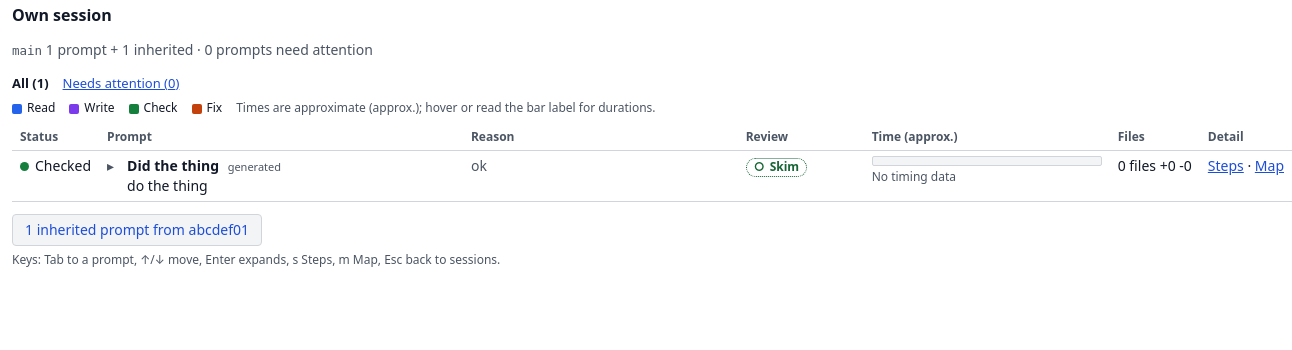
Test case: prompt table titles › an inherited prompt never shows a title
What coordinates should you click on to do the following:
click the button with class "inherited-toggle"
I would click on:
 (137, 230)
Its box is [12,214,262,246].
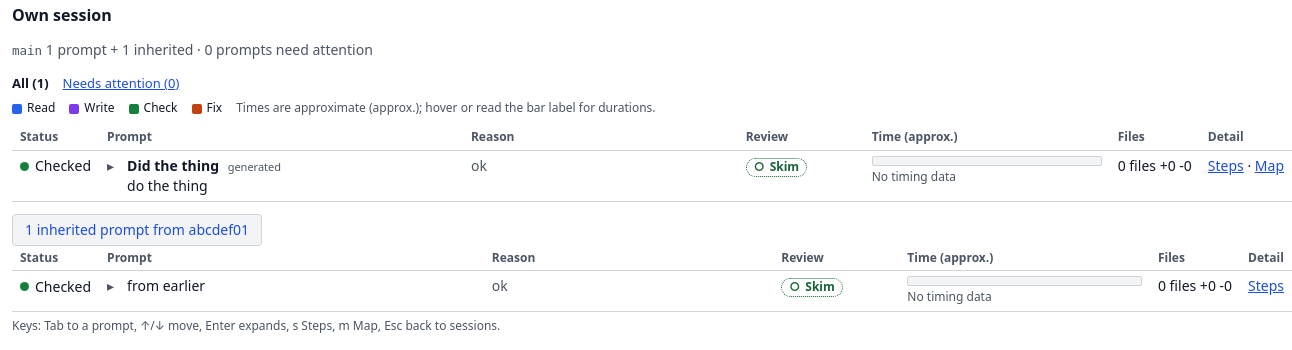
expect the number of elements with class "gen-label" is 1: met, box [228,159,281,174]
expect the text "from earlier" is shown: met, box [127,276,205,295]
